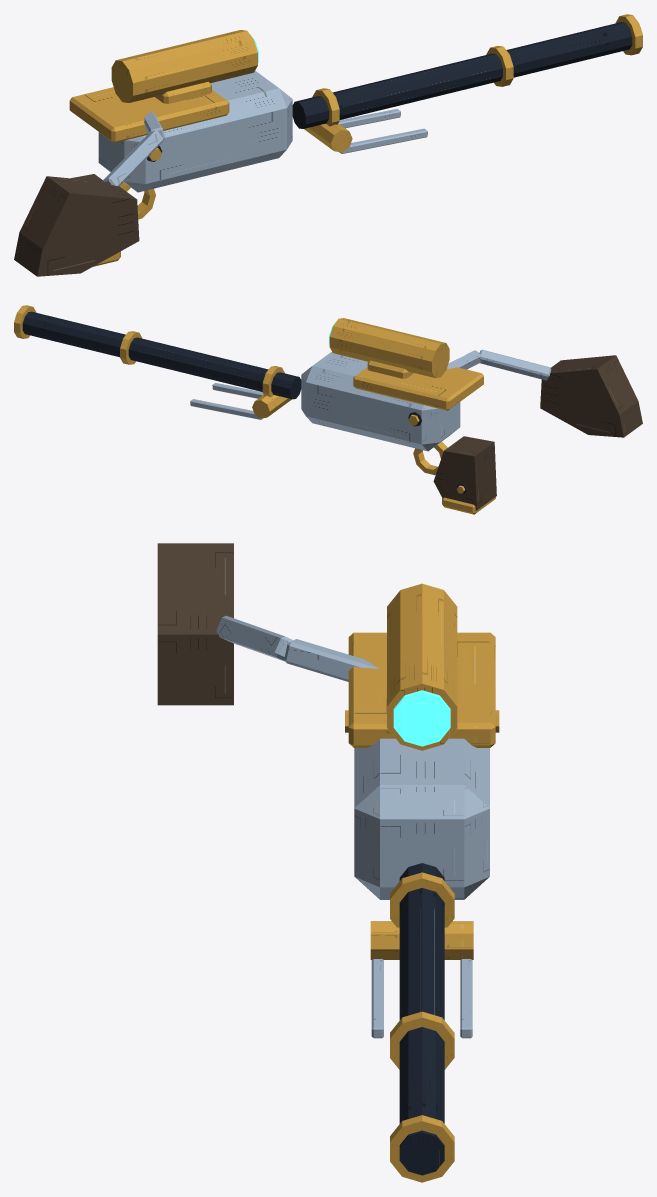
File: rifle.glb
The picture shows the model from 3 angles, top to bottom: view 1: azimuth 30°, elevation 25°; view 2: azimuth 150°, elevation 25°; view 3: azimuth 270°, elevation 25°; orthographic projection. The views are drawn at different scales.
Visible parts, largest first — view 1: body, barrel, core; view 2: body, barrel, core, grip; view 3: body, barrel, core.
Part boxes in pixels (left/top/right/bottom): body: left=14, top=70, right=292, bottom=276; barrel: left=292, top=14, right=642, bottom=153; core: left=111, top=30, right=258, bottom=102; body: left=301, top=349, right=642, bottom=475; barrel: left=14, top=305, right=301, bottom=419; core: left=329, top=318, right=449, bottom=377; grip: left=433, top=436, right=496, bottom=514; body: left=157, top=543, right=499, bottom=899; barrel: left=370, top=863, right=473, bottom=1182; core: left=387, top=583, right=457, bottom=750.
Size of the model in its own units: 1.25 by 0.329 by 0.3319.
Materials: 5 (5 with a texture image).
